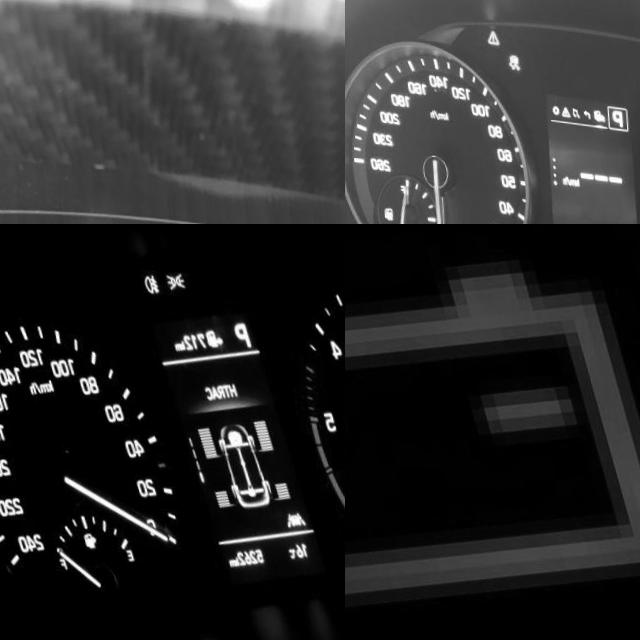Central Warning lamp: (483, 25, 496, 41)
FrontFogLight: (141, 266, 159, 291)
SideLamp: (162, 262, 186, 287)
